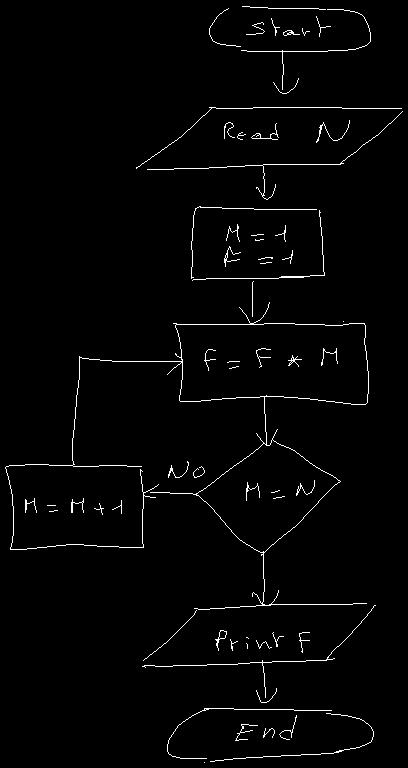arrow: (72, 353, 182, 464), (252, 551, 278, 605), (239, 281, 269, 323), (273, 50, 298, 93), (256, 395, 277, 445), (256, 660, 276, 702), (143, 484, 196, 497), (256, 166, 275, 199)
data: (136, 107, 402, 169), (142, 603, 375, 667)
decision: (195, 439, 340, 555)
process: (173, 321, 368, 404), (5, 464, 143, 549), (191, 206, 324, 280)
terminator: (167, 708, 373, 762), (209, 6, 370, 51)
text: (204, 348, 337, 370), (224, 224, 292, 266), (224, 120, 349, 142), (215, 630, 309, 652), (246, 16, 330, 36), (25, 498, 121, 514), (235, 715, 296, 740), (246, 480, 314, 500), (168, 461, 204, 477)
